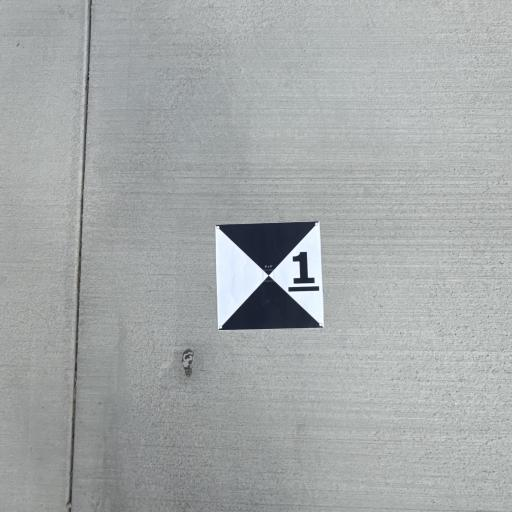target1: (213, 220, 327, 333)
